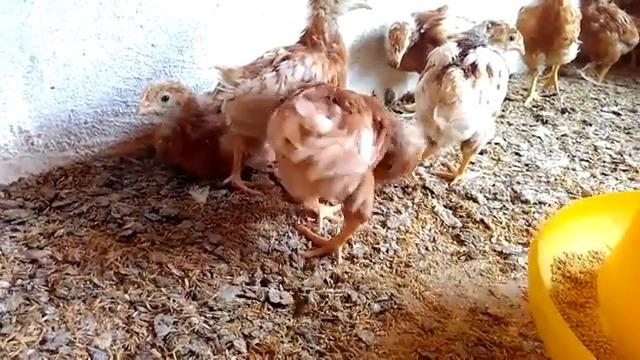AbNormal: (274, 86, 425, 261)
Normal: (411, 14, 534, 173)
